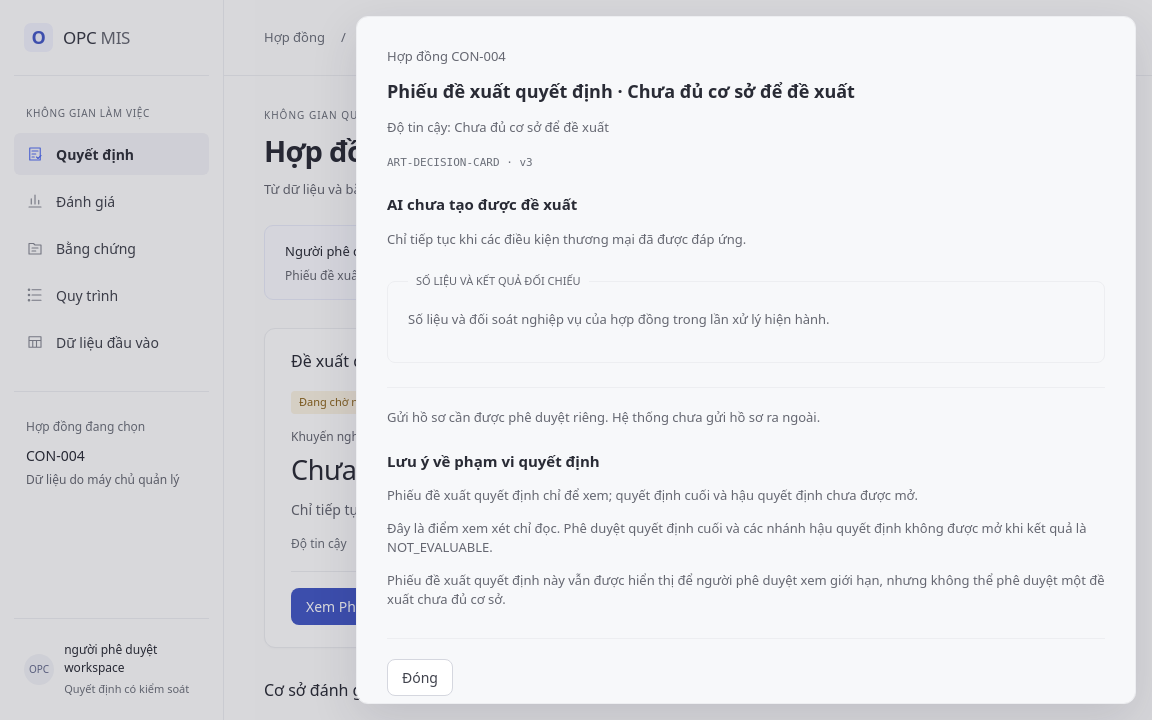
it: Người phê duyệt interaction popups › auto-opens an exact NOT_EVALUABLE review as view-only even while playback is behind
Expected: the text "Phiếu đề xuất quyết định chỉ để xem; quyết định cuối và hậu quyết định chưa được mở." is shown, [387,486,918,504]
Expected: the text "Phê duyệt quyết định cuối và các nhánh hậu quyết định không được mở" is shown, [387,519,1086,556]
Click the button "Đóng" at (420,677), box [387,659,453,696]
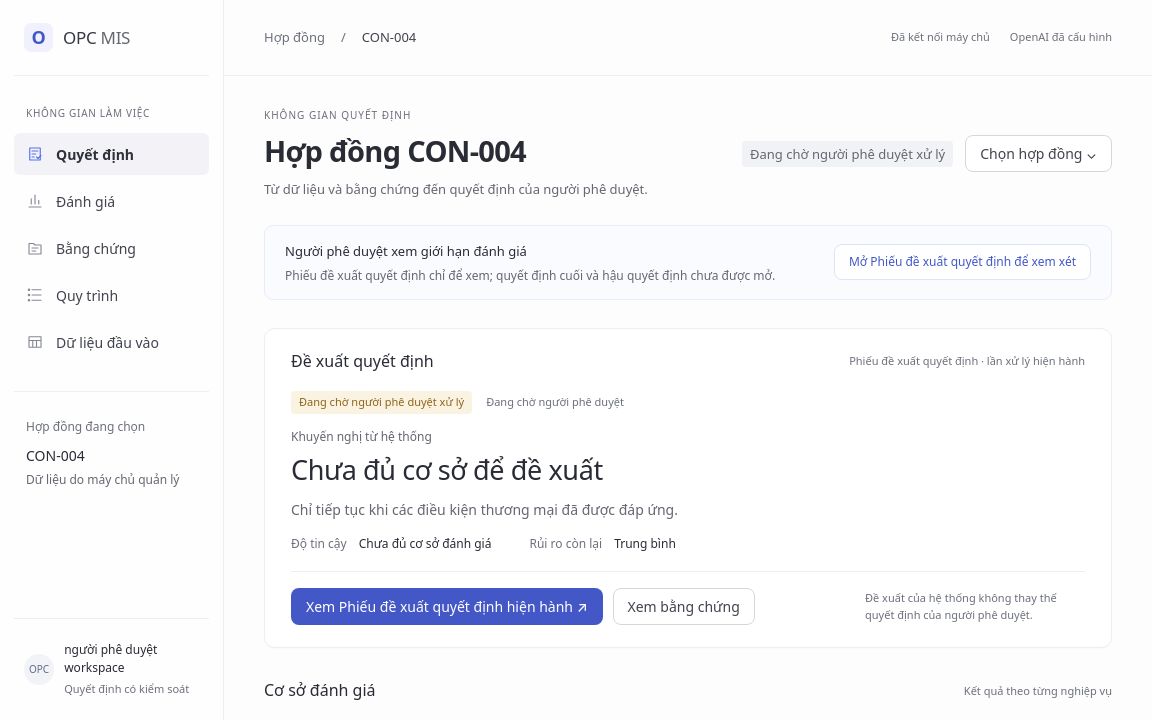
Click the button "Mở Phiếu đề xuất quyết định để xem xét" at (962,262), box [834,244,1091,280]
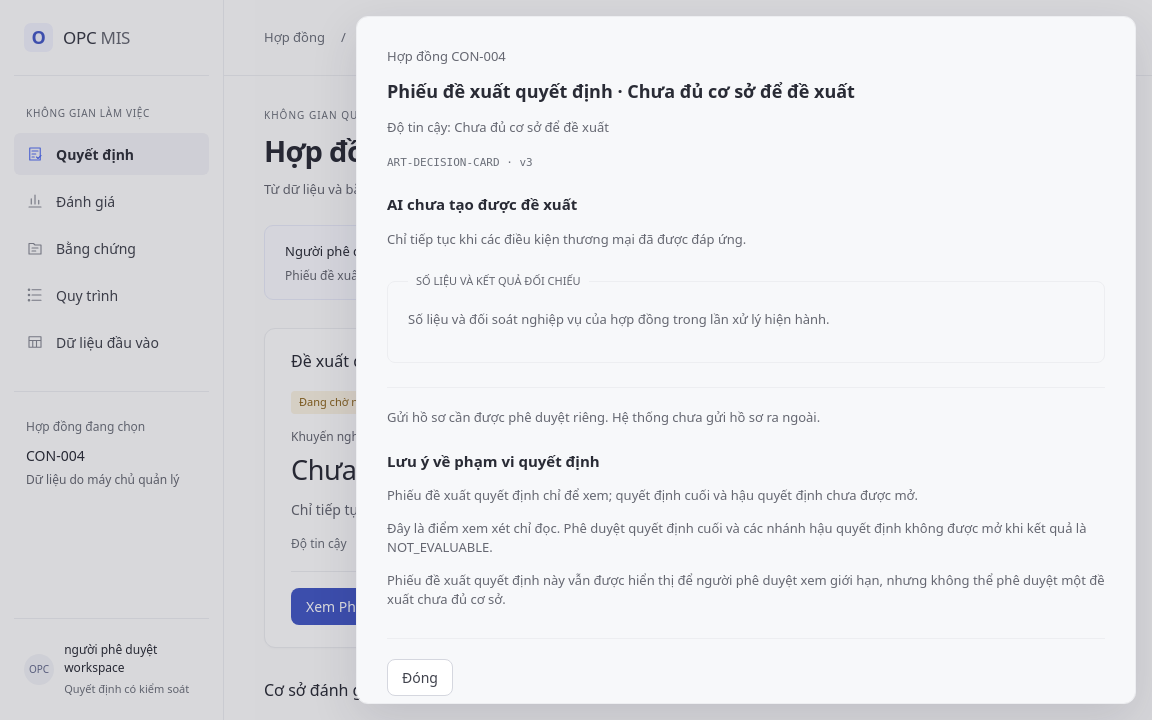
Result: the dialog "Phiếu đề xuất quyết định" is shown
